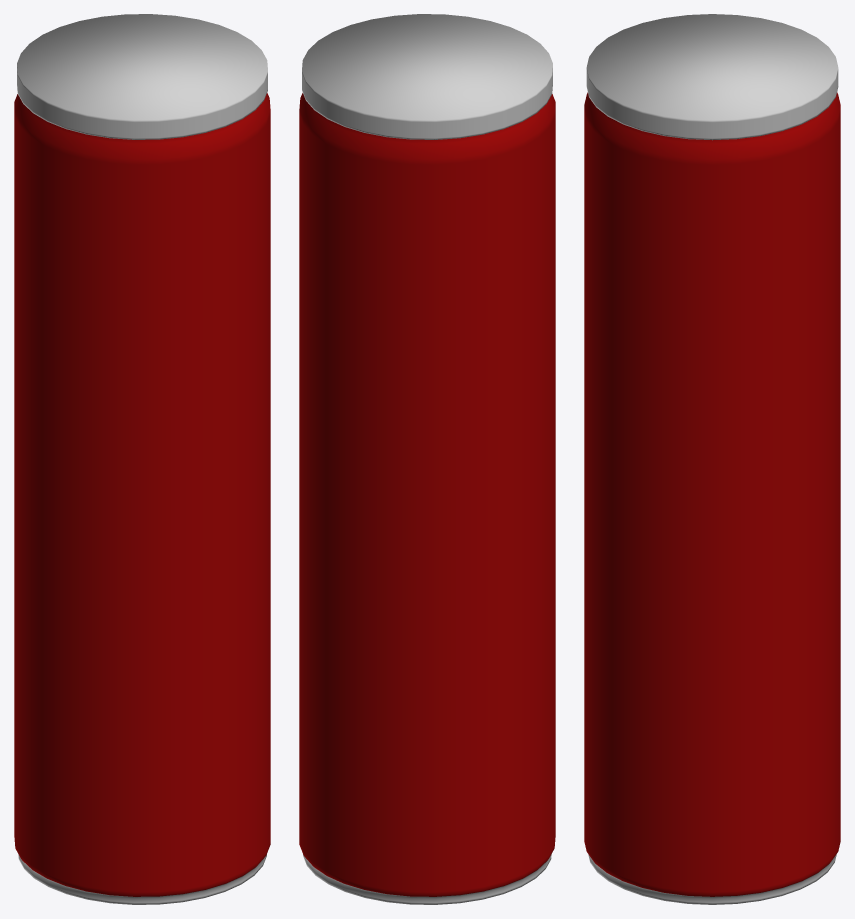
Rendered from Can Pringles Substance.fbx.
3 renders of one model, left to right at view 1: azimuth 30°, elevation 25°; view 2: azimuth 150°, elevation 25°; view 3: azimuth 270°, elevation 25°, orthographic.
Visible parts, largest first — view 1: Can Pringles (×2), Cap Pringles; view 2: Can Pringles (×2), Cap Pringles; view 3: Can Pringles (×2), Cap Pringles.
Part boxes in pixels (x1,y1,x2,y2): Can Pringles (×2): [14, 93, 270, 904]; Cap Pringles: [17, 14, 267, 139]; Can Pringles (×2): [299, 93, 555, 904]; Cap Pringles: [302, 14, 552, 139]; Can Pringles (×2): [584, 92, 840, 904]; Cap Pringles: [586, 14, 838, 140].
Bounding box in the file's own units: 131 × 441 × 131.
